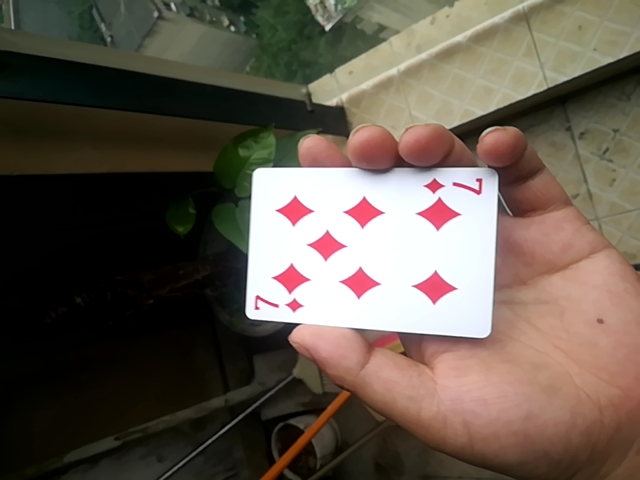fk 7: (238, 163, 498, 336)
